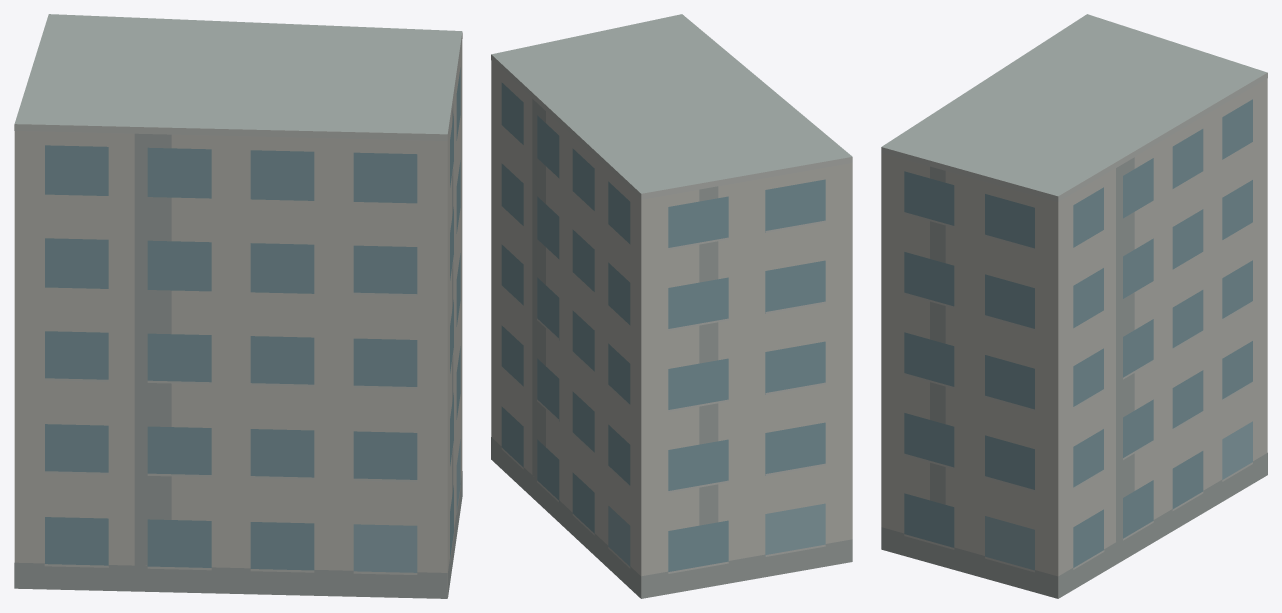
The model's file is survey-upis-32941684.glb.
3 views of the same model, side by side, from view 1: azimuth 30°, elevation 25°; view 2: azimuth 150°, elevation 25°; view 3: azimuth 270°, elevation 25° (orthographic). The views are drawn at different scales.
Parts seen in each view (by area): view 1: survey-upis-32941684.tmp; view 2: survey-upis-32941684.tmp; view 3: survey-upis-32941684.tmp.
Part boxes in pixels (x1=…): survey-upis-32941684.tmp: x1=14, y1=14, x2=462, y2=598; survey-upis-32941684.tmp: x1=491, y1=14, x2=852, y2=598; survey-upis-32941684.tmp: x1=881, y1=14, x2=1267, y2=598.
Size of the model in its own units: 16.14 by 16.6 by 14.45.
